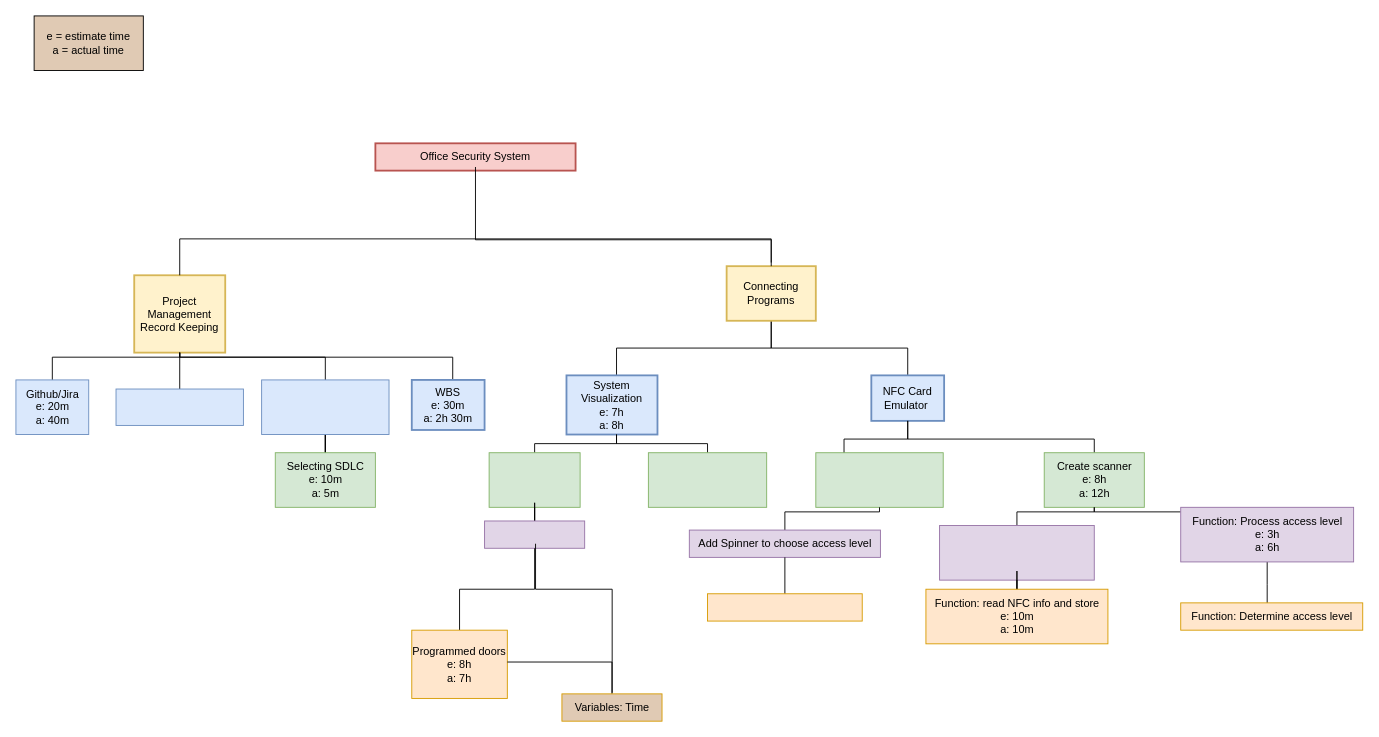
Some shapes in this 1379 by 737 pixel diagram are drawn without their labels. Each missing label, with the centre of its shape:
Create Layout e: 20m a: 30m: the point at 534,479
Create necessary XML files e: 5h a: 6h: the point at 1016,552
Create User Interface e: 3h a: 3h30m: the point at 879,479
Display Access Information: the point at 784,607
Elaborating on SDLC e: 5m a: 10m: the point at 325,407
Gnatt Chart throughout the project: the point at 179,406
Interactive doors: the point at 534,534
Variables: Aesthetic e: 30m a: 30m: the point at 707,479
